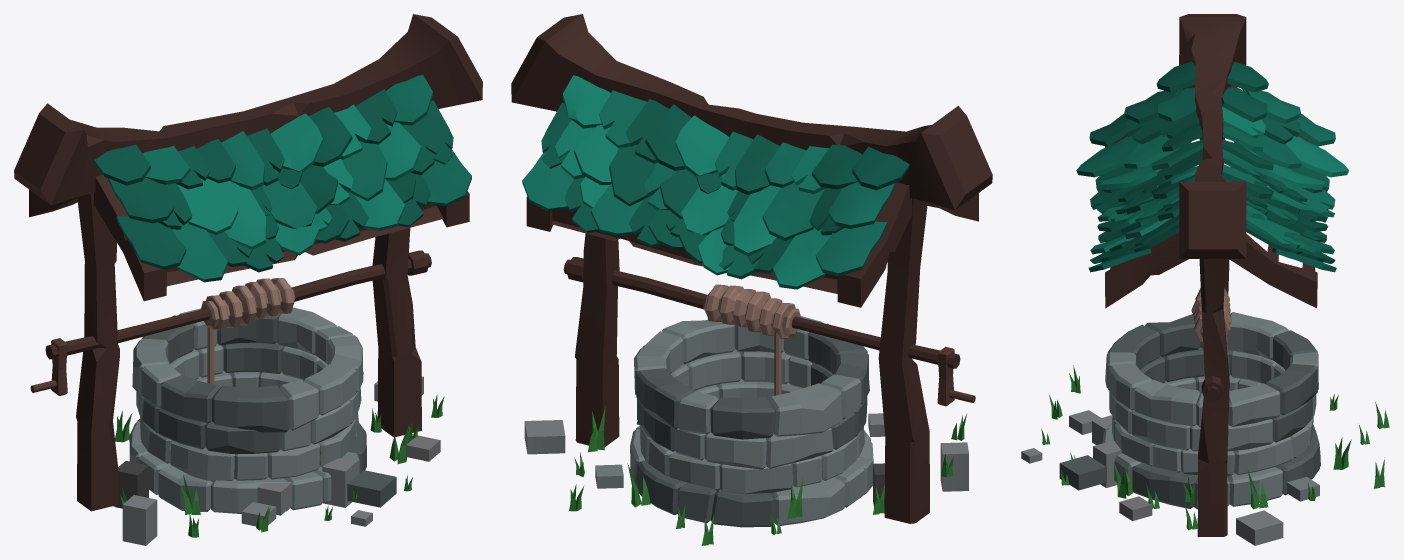
Rendered from well.glb.
The picture shows the model from 3 angles, left to right: view 1: azimuth 30°, elevation 25°; view 2: azimuth 150°, elevation 25°; view 3: azimuth 270°, elevation 25°; orthographic projection. The views are drawn at different scales.
Visible parts, largest first — view 1: Cube, Cube.003, Cube.006, Cube.002, Cube.004, Cube.001, Cube.005, Cube.007; view 2: Cube, Cube.009, Cube.003, Cube.008; view 3: Cube, Cube.009, Cube.006, Cube.002, Cube.005, Cube.008, Cube.007.
Boxes of the visible parts, x1,y1,x2,y2 form: Cube: [14, 14, 482, 513]; Cube.003: [122, 495, 157, 545]; Cube.006: [347, 470, 396, 507]; Cube.002: [322, 458, 356, 507]; Cube.004: [114, 461, 148, 508]; Cube.001: [257, 481, 292, 515]; Cube.005: [407, 435, 440, 461]; Cube.007: [241, 502, 276, 526]; Cube: [511, 14, 992, 527]; Cube.009: [524, 420, 565, 454]; Cube.003: [940, 442, 968, 491]; Cube.008: [595, 464, 623, 488]; Cube: [1076, 14, 1348, 536]; Cube.009: [1236, 510, 1283, 545]; Cube.006: [1059, 455, 1106, 490]; Cube.002: [1093, 440, 1122, 487]; Cube.005: [1119, 496, 1152, 520]; Cube.008: [1287, 476, 1319, 501]; Cube.007: [1069, 410, 1100, 434].
Bounding box in the file's own units: 4.02 × 3.46 × 3.14.
Materials: 1 (1 with a texture image).
